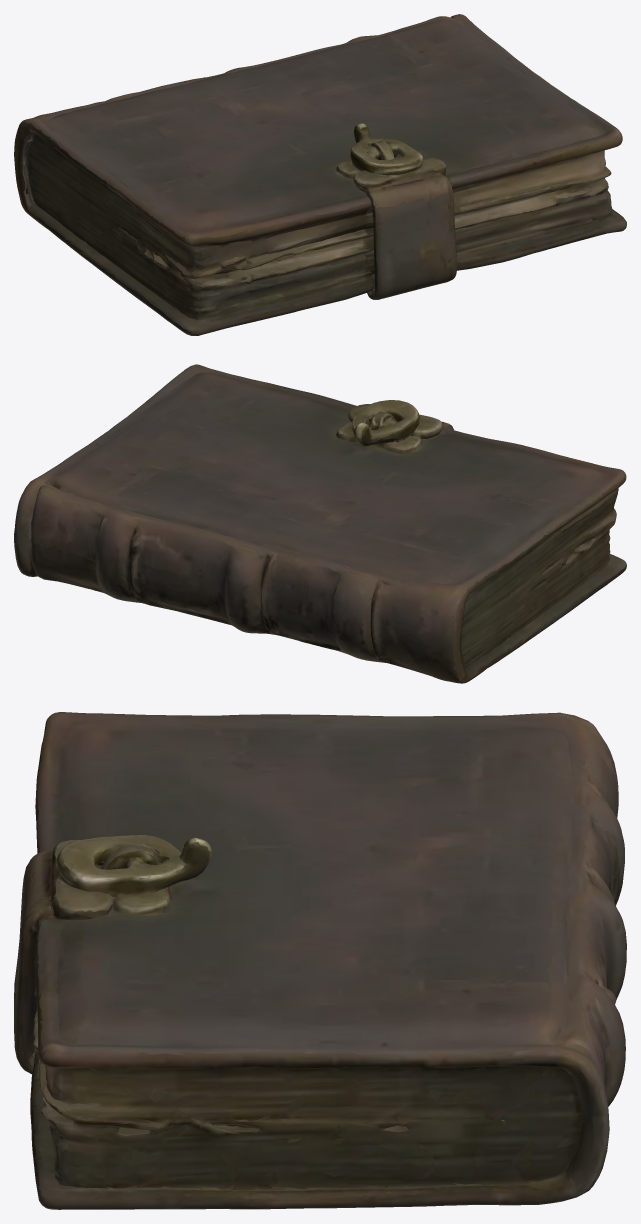
Rendered from journal-opt.glb.
3 views of the same model, one above another, from view 1: azimuth 30°, elevation 25°; view 2: azimuth 150°, elevation 25°; view 3: azimuth 270°, elevation 25° (orthographic). The views are drawn at different scales.
Visible parts, largest first — view 1: geometry_0; view 2: geometry_0; view 3: geometry_0.
Boxes of the visible parts, <box> form: geometry_0: <box>14,14,626,335</box>; geometry_0: <box>14,364,626,683</box>; geometry_0: <box>14,712,626,1209</box>.
Size of the model in its own units: 0.21 by 0.0599 by 0.1567.
Materials: 1 (1 with a texture image).
